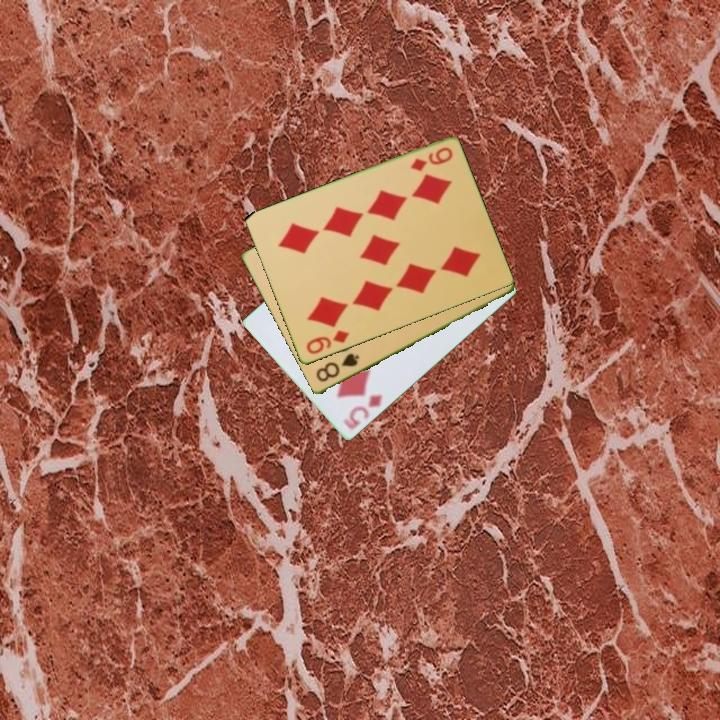5d: (340, 391, 386, 433)
8s: (312, 350, 362, 385)
9d: (302, 327, 352, 358), (407, 144, 455, 175)
